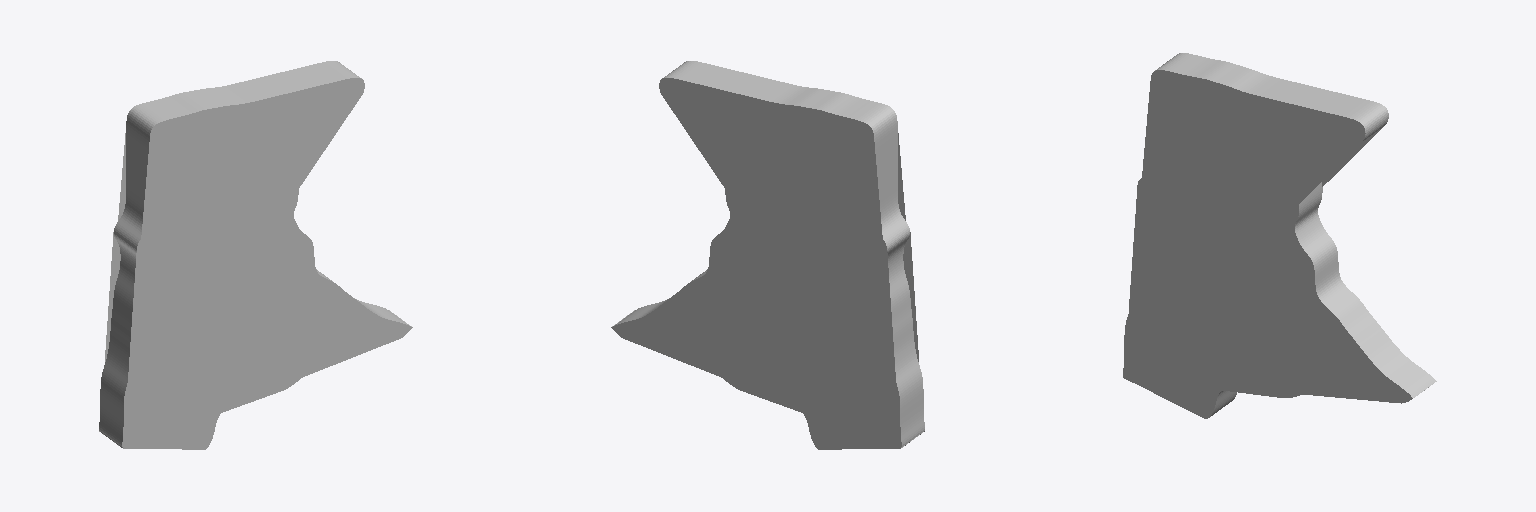
3 views of the same model, side by side, from view 1: azimuth 30°, elevation 25°; view 2: azimuth 150°, elevation 25°; view 3: azimuth 330°, elevation 25° (orthographic).
Parts seen in each view (by area): view 1: 平面; view 2: 平面; view 3: 平面.
Part boxes in pixels (x1,y1,x2,y2): 平面: (99,61,412,449); 平面: (611,61,924,449); 平面: (1123,53,1436,418).
Bounding box in the file's own units: 1.44 × 1.61 × 0.2.